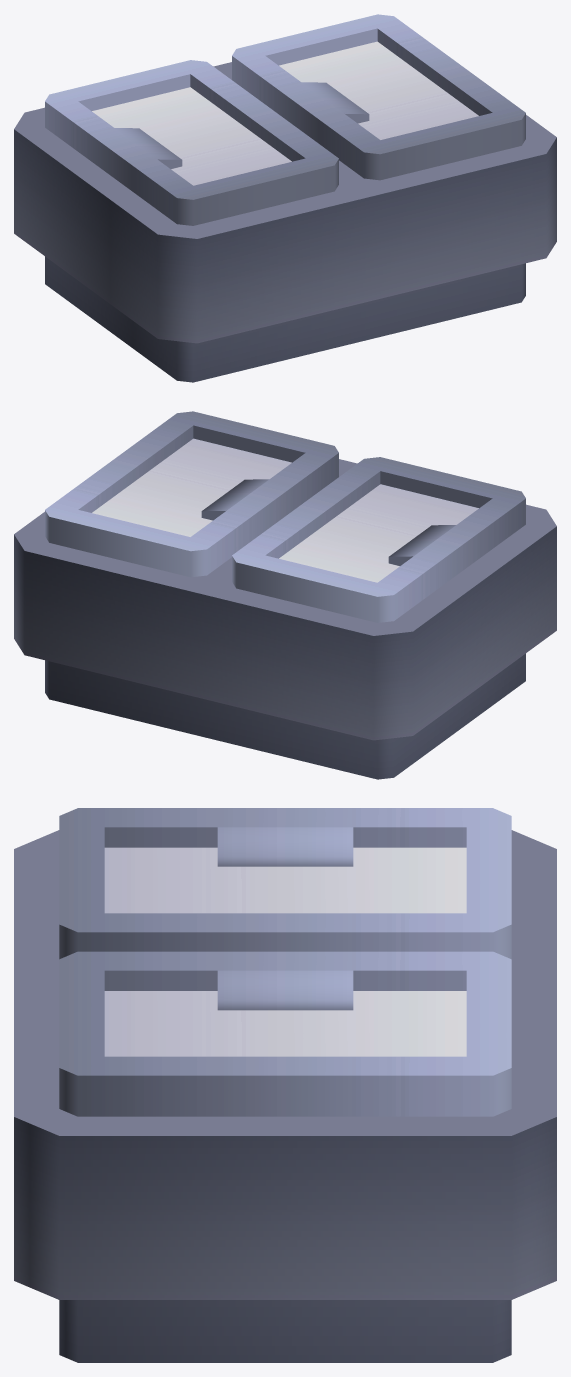
File: freezer.glb
The picture shows the model from 3 angles, top to bottom: view 1: azimuth 30°, elevation 25°; view 2: azimuth 150°, elevation 25°; view 3: azimuth 270°, elevation 25°; orthographic projection. The views are drawn at different scales.
Visible parts, largest first — view 1: freezer; view 2: freezer; view 3: freezer.
Boxes of the visible parts, x1,y1,x2,y2 form: freezer: (14, 14, 556, 382); freezer: (14, 411, 556, 779); freezer: (14, 808, 556, 1362).
Bounding box in the file's own units: 0.8 × 0.35 × 0.6.
Materials: 1 (1 with a texture image).
